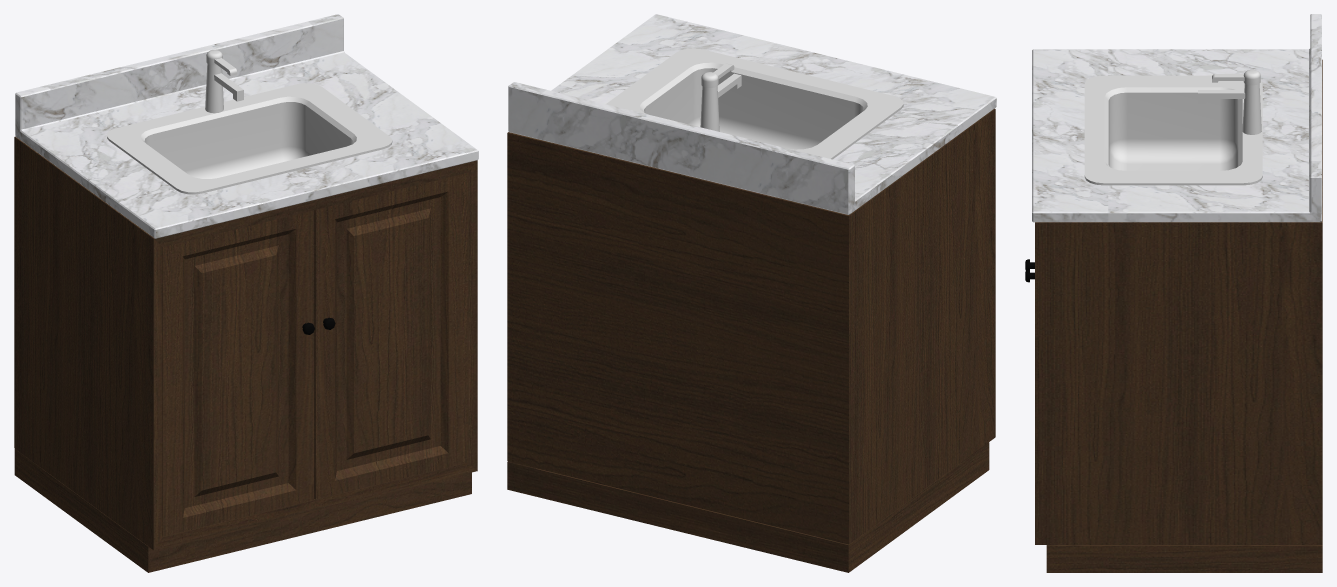
Rendered from kitchensink.fbx.
3 views of the same model, side by side, from view 1: azimuth 30°, elevation 25°; view 2: azimuth 150°, elevation 25°; view 3: azimuth 270°, elevation 25° (orthographic). The views are drawn at different scales.
Parts seen in each view (by area): view 1: kitchen3:pCube2; view 2: kitchen3:pCube2; view 3: kitchen3:pCube2.
Boxes of the visible parts, x1,y1,x2,y2 form: kitchen3:pCube2: [14, 14, 478, 572]; kitchen3:pCube2: [507, 14, 996, 572]; kitchen3:pCube2: [1025, 14, 1322, 572].
Bounding box in the file's own units: 10.94 × 13.15 × 8.41.
